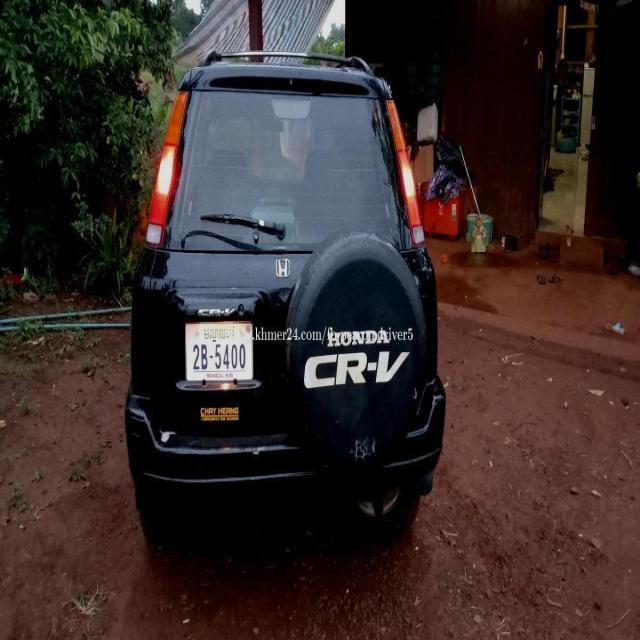Mondul_Kiri: (203, 324, 237, 343)
